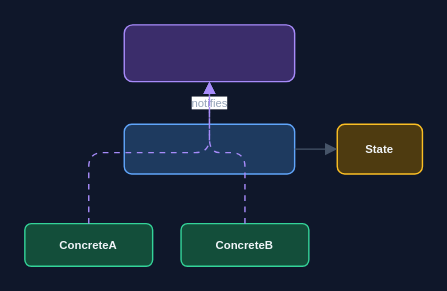
The diagram is 447 pixels wide and 291 high, and some of its shapes have lost their labels. Here are the shapes that lost their labels. From the top down, the centre of each, then its label:
At (x=209, y=52): "«interface» Observer".
At (x=209, y=148): "Subject".
